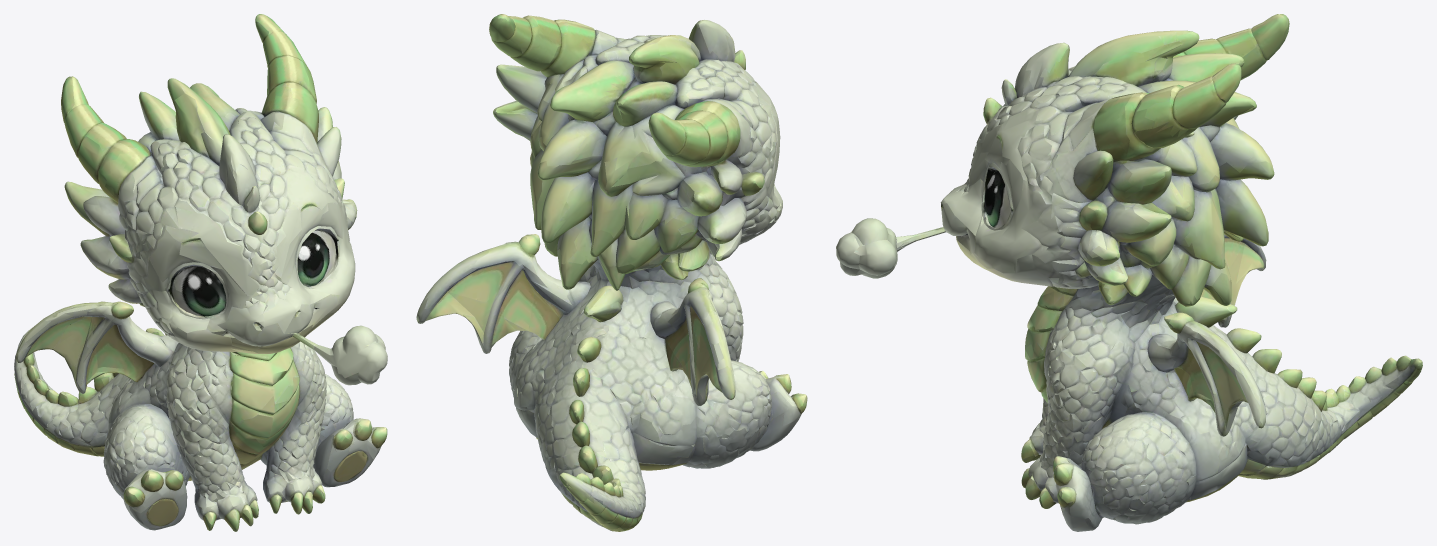
File: wyrmling_white.glb
3 renders of one model, left to right at view 1: azimuth 30°, elevation 25°; view 2: azimuth 150°, elevation 25°; view 3: azimuth 270°, elevation 25°, orthographic. The views are drawn at different scales.
Bounding box in the file's own units: 1.24 × 1.65 × 1.9.
Materials: 1 (1 with a texture image).
